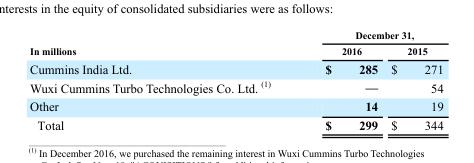table: (29, 28, 442, 132)
table column: (29, 28, 297, 132), (297, 28, 383, 132), (383, 28, 442, 132)
table column header: (29, 28, 442, 58)
table row: (29, 76, 442, 96), (29, 96, 442, 115), (29, 58, 442, 76), (29, 115, 442, 132), (29, 42, 442, 58), (29, 28, 442, 42)
table spanning cell: (29, 28, 297, 58), (297, 28, 442, 42)
